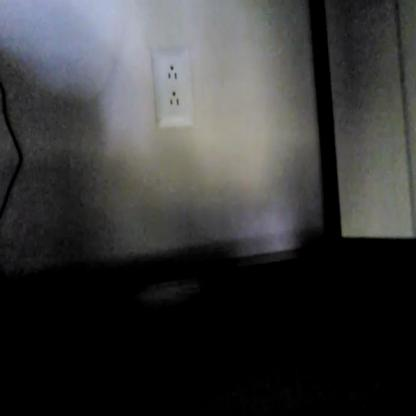OUTLET: (155, 47, 191, 128)
